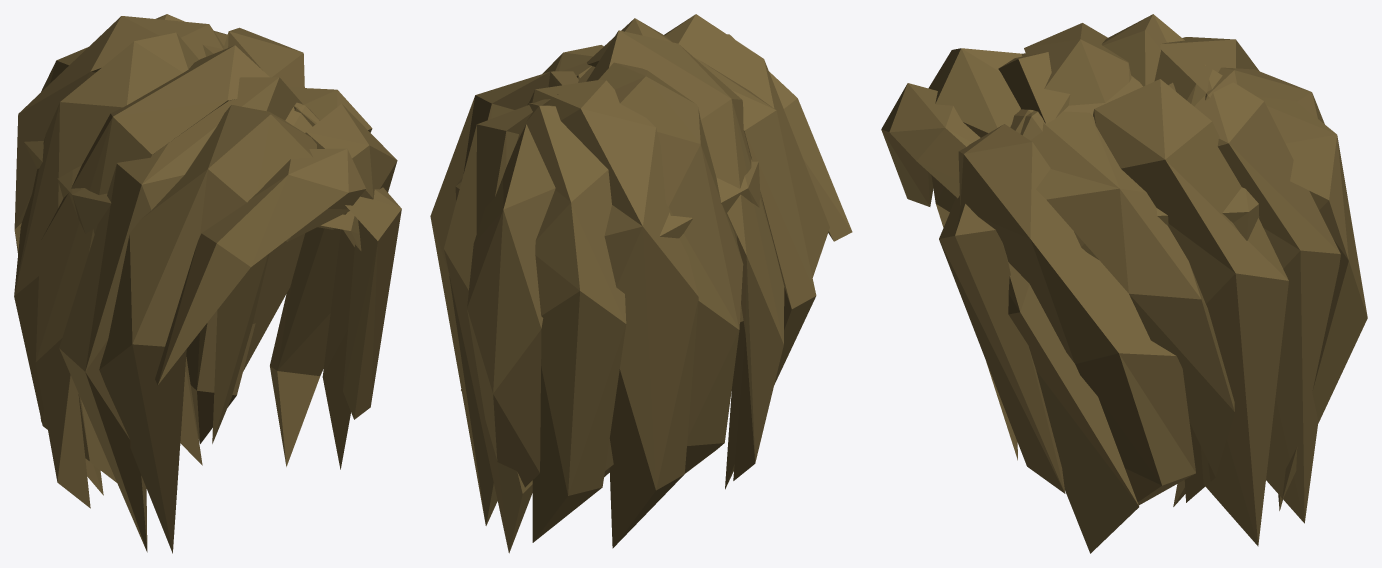
The model's file is hair-bob.mid.fdc6f9c9.glb.
3 views of the same model, side by side, from view 1: azimuth 30°, elevation 25°; view 2: azimuth 150°, elevation 25°; view 3: azimuth 270°, elevation 25° (orthographic). The views are drawn at different scales.
Parts seen in each view (by area): view 1: hair-bob; view 2: hair-bob; view 3: hair-bob.
Part boxes in pixels (left/top/right/bottom): hair-bob: left=14, top=14, right=401, bottom=553; hair-bob: left=430, top=14, right=852, bottom=553; hair-bob: left=881, top=14, right=1367, bottom=553.
Size of the model in its own units: 0.2311 by 0.3199 by 0.2875.
